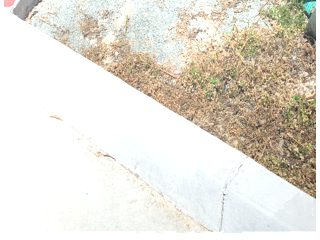Edge: (0, 32, 312, 231)
